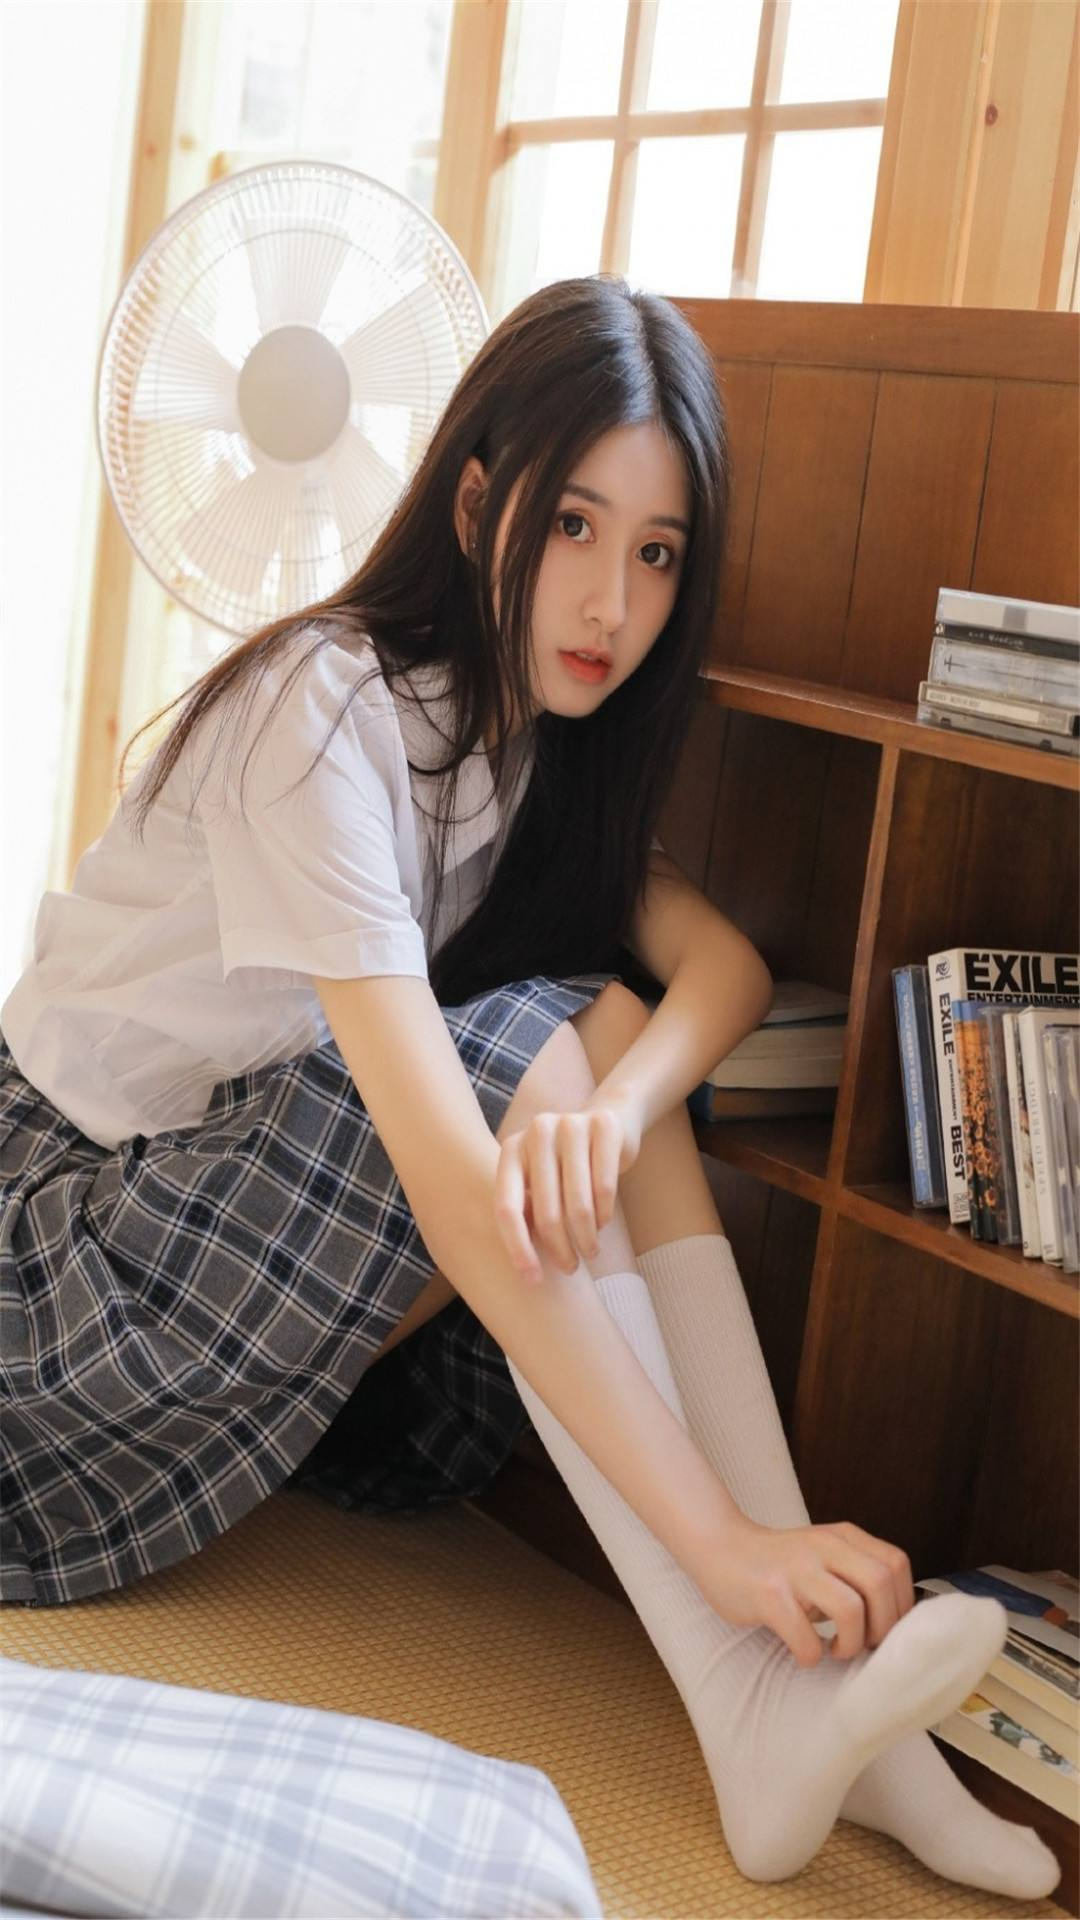person: (126, 257, 918, 1839)
